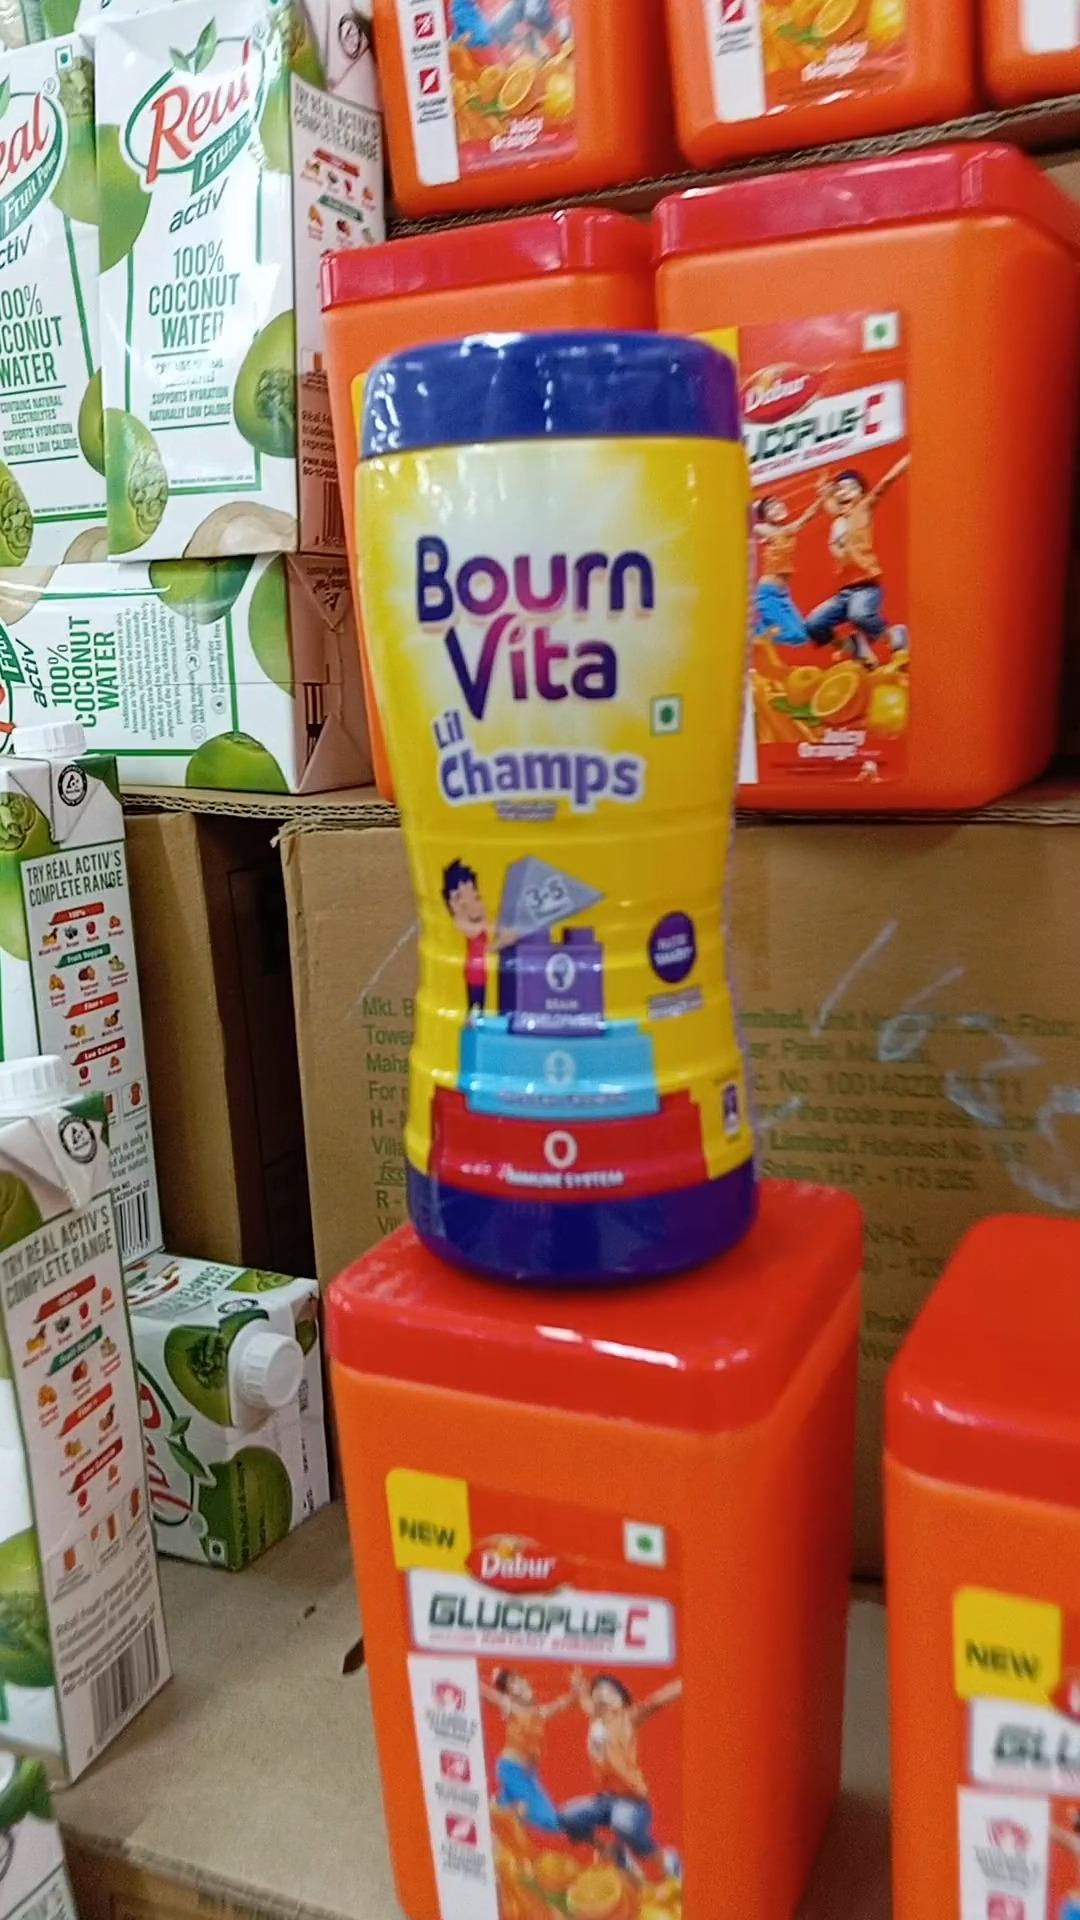BOURN_VITA_CHAMPS_500_G_JAR: (360, 336, 761, 1296)
